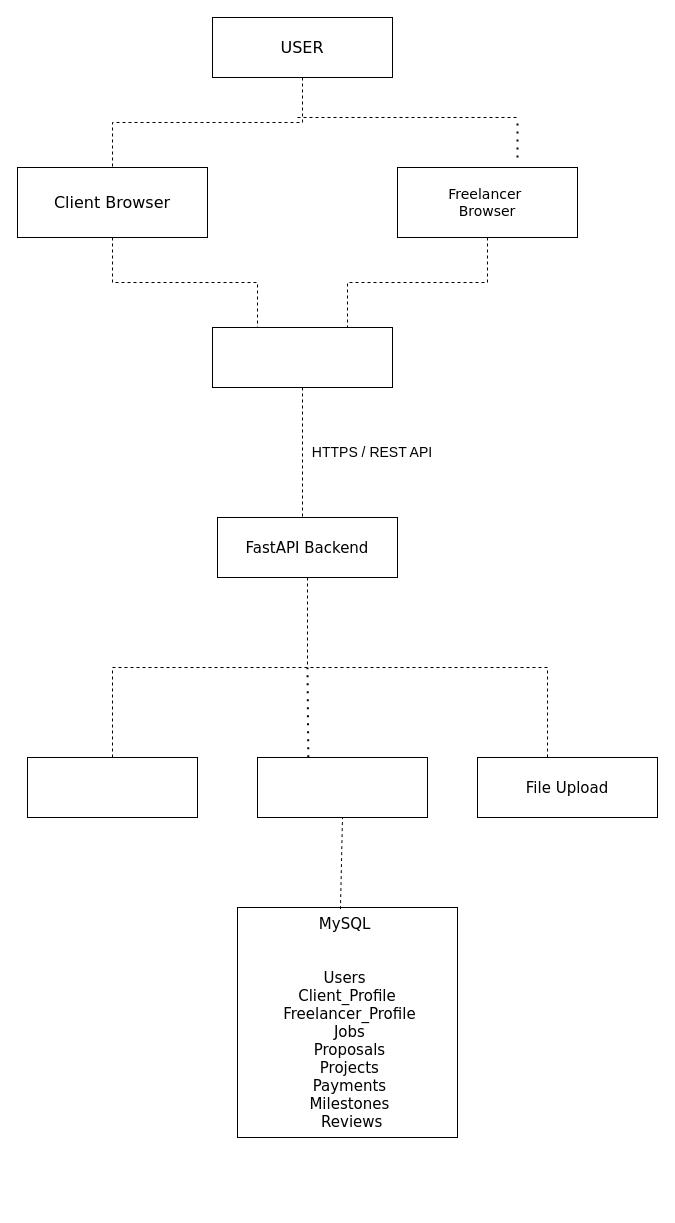
Some shapes in this 675 by 1223 pixel diagram are drawn without their labels. Each missing label, with the centre of its shape:
Business Logic: (342,787)
JWT Auth: (112,787)
React Frontend: (302,357)
